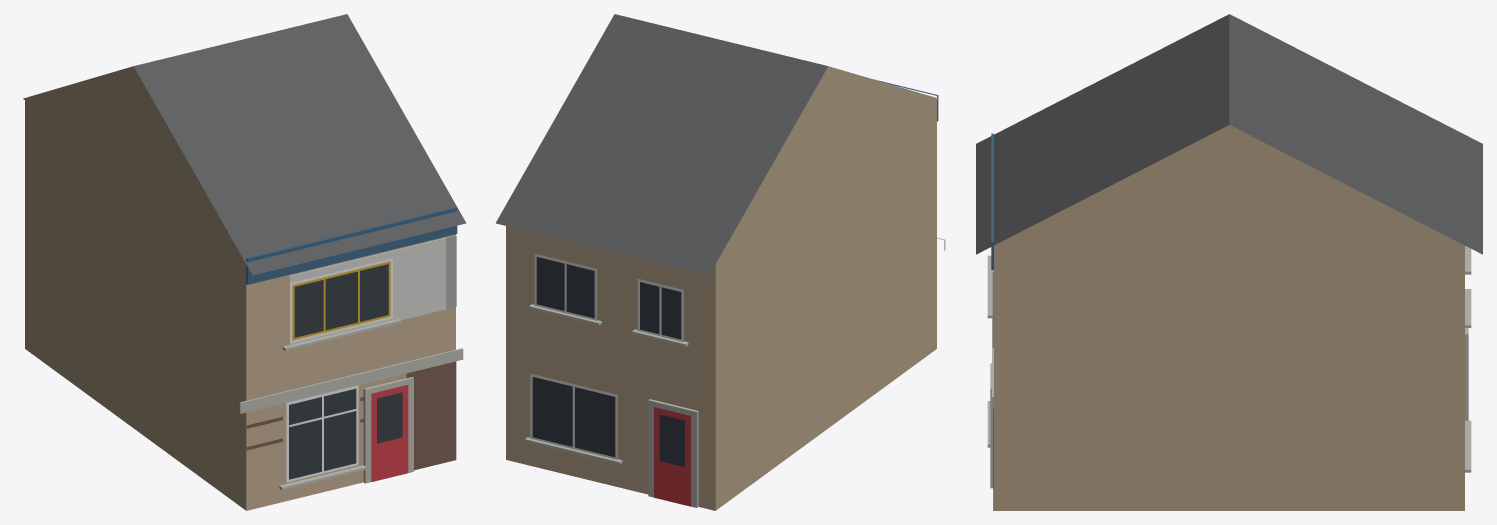
The model's file is nd-td-krasseur__buff__2__gable__long__solid__mirror.glb.
The picture shows the model from 3 angles, left to right: view 1: azimuth 30°, elevation 25°; view 2: azimuth 150°, elevation 25°; view 3: azimuth 270°, elevation 25°; orthographic projection. The views are drawn at different scales.
Visible parts, largest first — view 1: nd-td-krasseur__buff__2__gable__long__solid__mirror; view 2: nd-td-krasseur__buff__2__gable__long__solid__mirror; view 3: nd-td-krasseur__buff__2__gable__long__solid__mirror.
Part boxes in pixels (x1,y1,x2,y2): nd-td-krasseur__buff__2__gable__long__solid__mirror: (23,14,465,510); nd-td-krasseur__buff__2__gable__long__solid__mirror: (496,14,945,510); nd-td-krasseur__buff__2__gable__long__solid__mirror: (976,14,1482,510).
Size of the model in its own units: 5.4 by 8.43 by 10.
